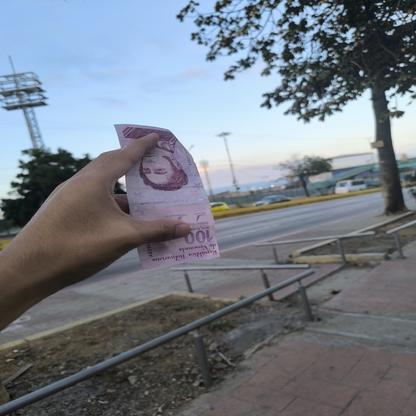one_hundred-front-vef: (113, 122, 220, 271)
